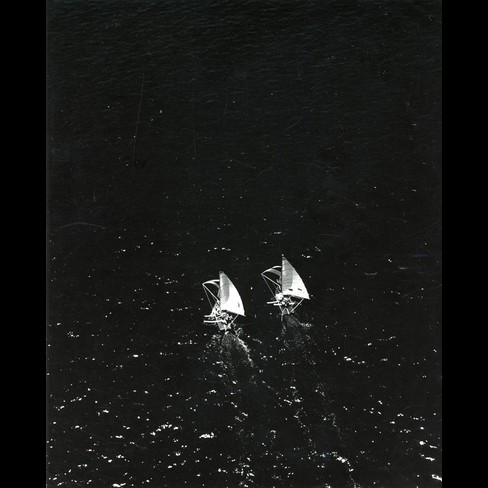boat: (259, 249, 313, 320), (197, 268, 249, 334)
